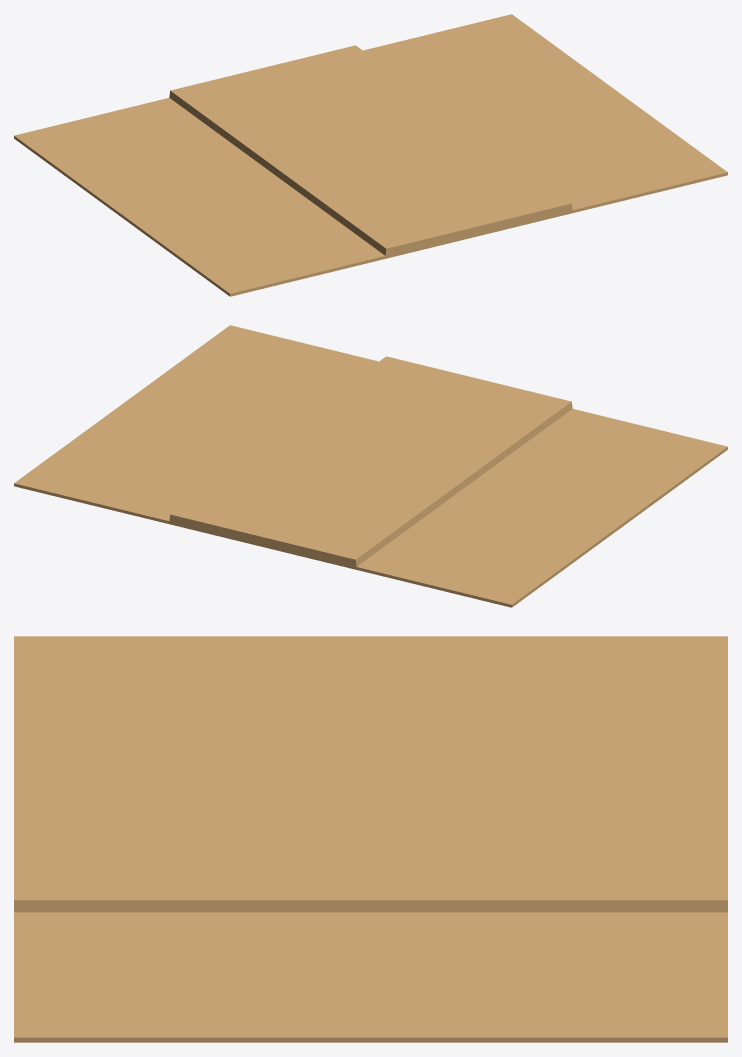
The picture shows the model from 3 angles, top to bottom: view 1: azimuth 30°, elevation 25°; view 2: azimuth 150°, elevation 25°; view 3: azimuth 270°, elevation 25°; orthographic projection. The views are drawn at different scales.
Parts seen in each view (by area): view 1: TO220_0.38短.STL; view 2: TO220_0.38短.STL; view 3: TO220_0.38短.STL.
Part boxes in pixels (box(x1,y1,x2,y2)): TO220_0.38短.STL: box(14, 14, 727, 296); TO220_0.38短.STL: box(14, 325, 727, 607); TO220_0.38短.STL: box(14, 636, 727, 1042).
Size of the model in its own units: 5 by 0.0955 by 3.76.
